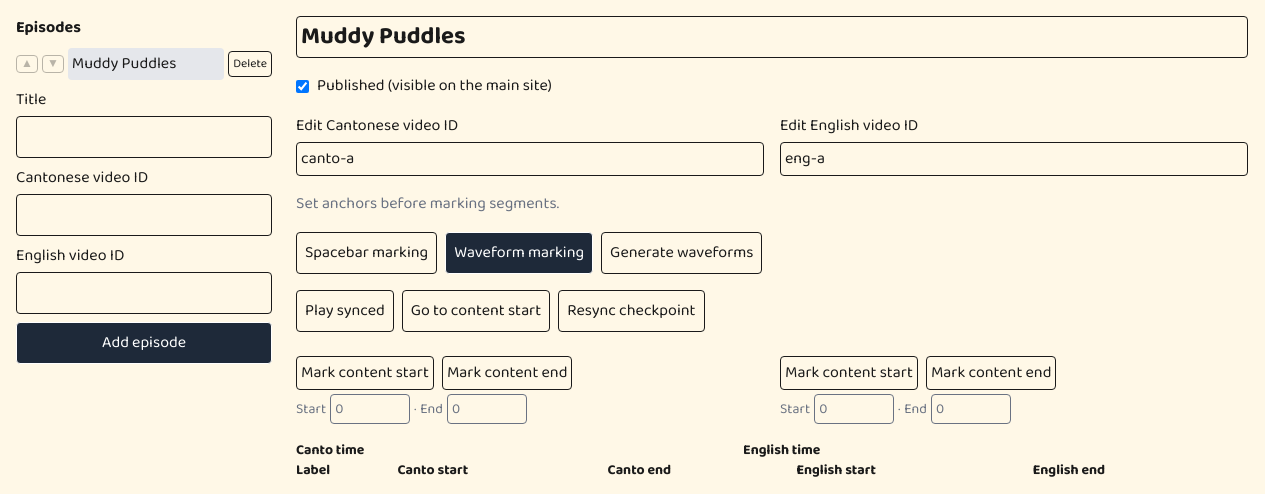
Scenario: Admin › selects a newly created episode
The image size is (1265, 494).
In the field labelled "Title": (144, 137) [16, 116, 272, 158], type "New Episode"
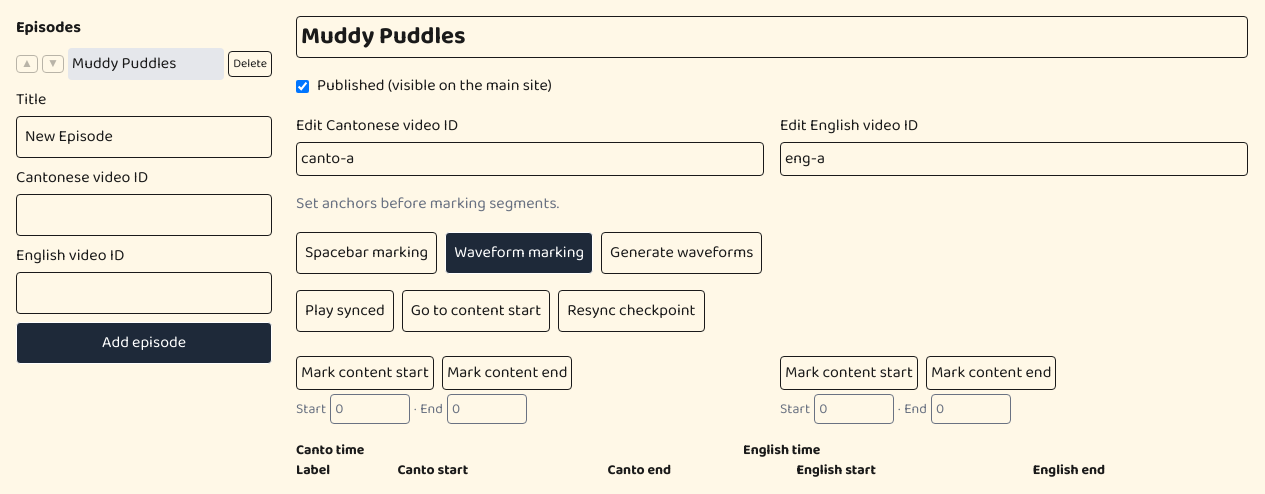
In the field labelled "Cantonese video ID": (144, 215) [16, 194, 272, 236], type "c"
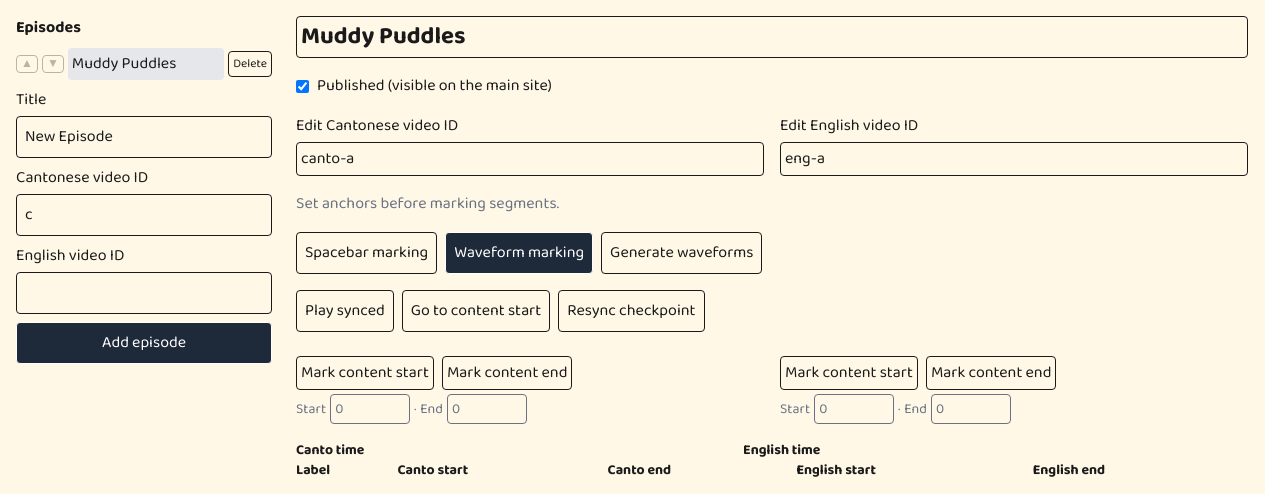
In the field labelled "English video ID": (144, 293) [16, 272, 272, 314], type "d"
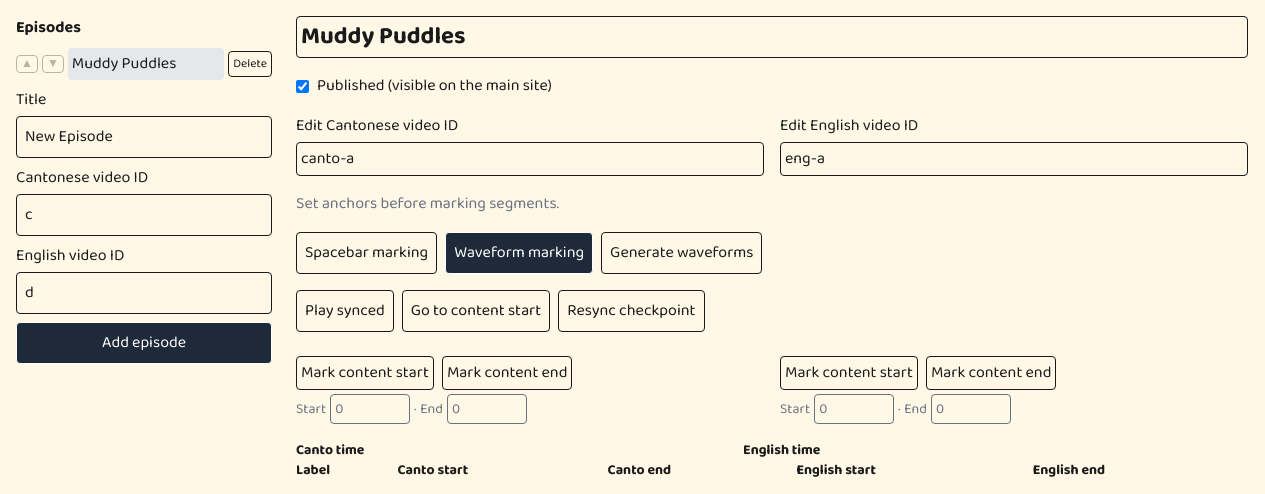
Click the button "Add episode": (144, 343) [16, 322, 272, 364]
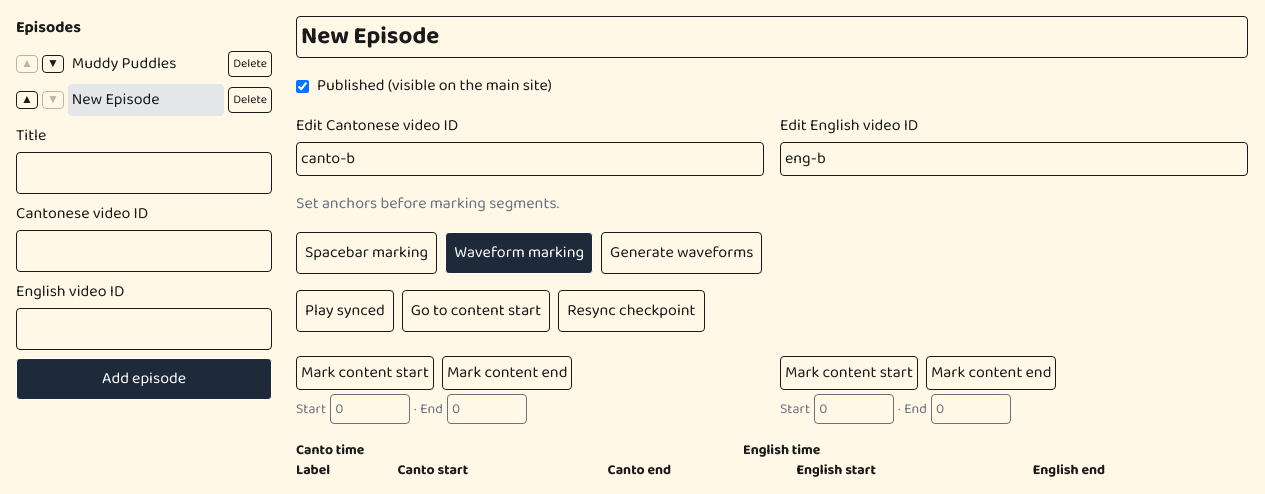
expect the field named "Episode title" holds "New Episode": met, box [296, 16, 1248, 58]
